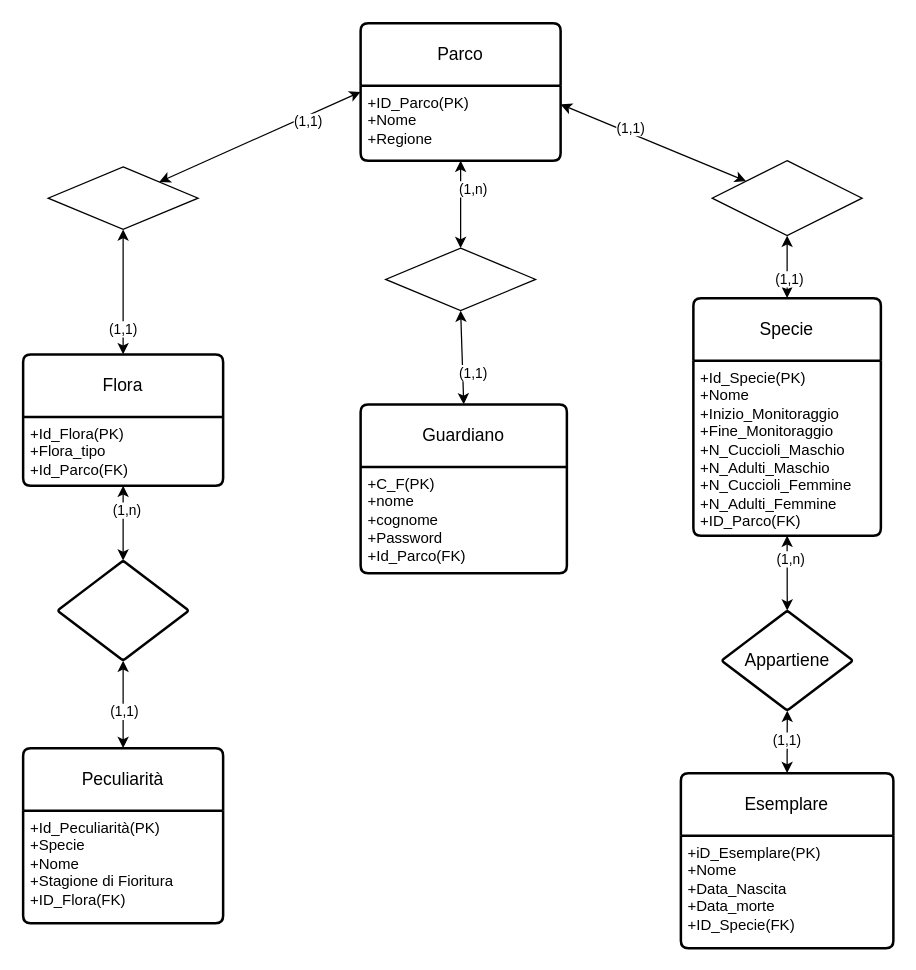
Some shapes in this 916 by 970 pixel diagram are drawn without their labels. Here are the shapes that lost their labels. From the top down, the box of each, then its label:
(47, 166, 198, 229): Cresce
(711, 159, 862, 236): Possiede
(384, 247, 536, 311): Controlla
(56, 559, 189, 661): Caratterizzata
